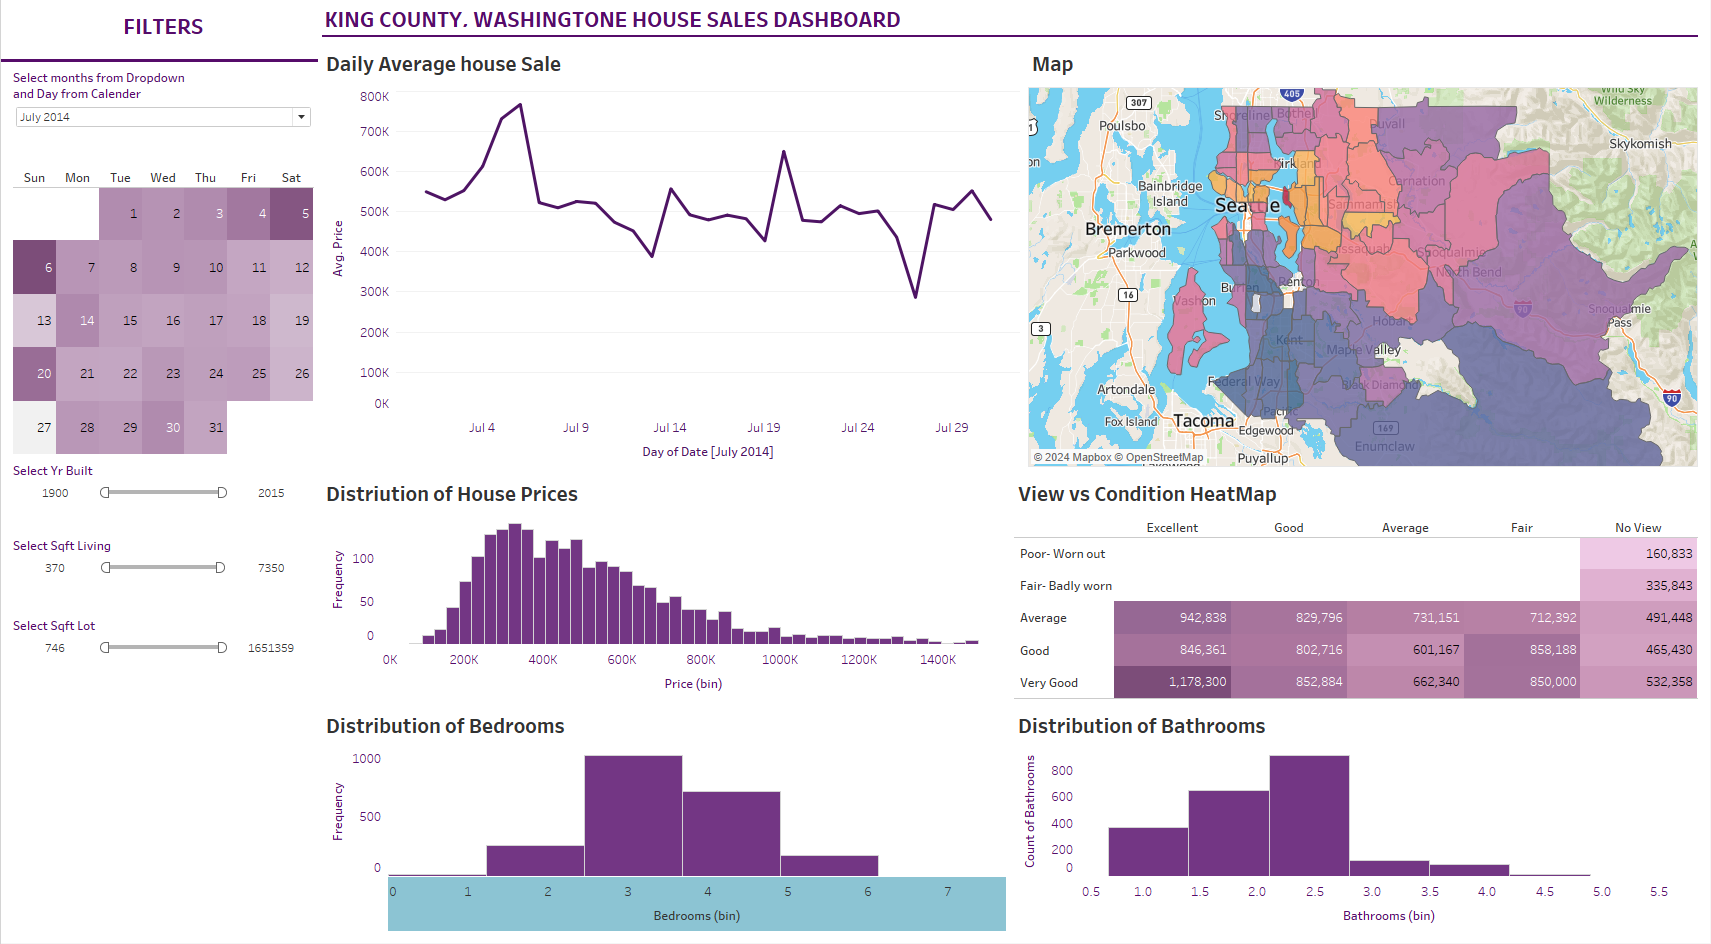

What the dashboard file says about the page in this screenshot:
{"tool":"tableau","page":{"name":"KingCountyHouseSale","canvas":[1000,1000],"units":"permille","ordinal":0},"visuals":[{"type":"text","box":[4.7,8.5,181,61.5]},{"type":"text","box":[185.7,8.5,809.6,25.3]},{"type":"blank","box":[185.7,33.7,809.6,10.6]},{"type":"worksheet","title":"Linechart","mark":"Automatic","rows":["price"],"cols":["date"],"box":[185.7,44.3,413.1,455.7]},{"type":"worksheet","title":"Map","mark":"Automatic","box":[598.8,44.3,396.5,455.7]},{"type":"filter","title":"Calendar","param":"[federated.0yw8oqb1c4z54412dog581vt4lgo].[my:date:ok]","box":[4.7,70,181,103.3]},{"type":"worksheet","title":"Calendar","mark":"Square","rows":["date"],"cols":["date"],"box":[4.7,173.2,181,313]},{"type":"filter","title":"Calendar","param":"[federated.0yw8oqb1c4z54412dog581vt4lgo].[none:yr_built:qk]","box":[4.7,486.3,181,79.1]},{"type":"worksheet","title":"Distribution of House Prices","mark":"Automatic","rows":["price"],"cols":["Price (bin)"],"box":[185.7,500,404.8,245.8]},{"type":"worksheet","title":"Heatmap","mark":"Square","rows":["condition"],"cols":["view"],"box":[590.5,500,404.8,245.8]},{"type":"filter","title":"Calendar","param":"[federated.0yw8oqb1c4z54412dog581vt4lgo].[none:sqft_living:qk]","box":[4.7,565.4,181,84.6]},{"type":"filter","title":"Calendar","param":"[federated.0yw8oqb1c4z54412dog581vt4lgo].[none:sqft_lot:qk]","box":[4.7,649.9,181,341.6]},{"type":"worksheet","title":"Distribution of Bedrooms","mark":"Automatic","rows":["bedrooms"],"cols":["Bedrooms (bin)"],"box":[185.7,745.8,404.8,245.8]},{"type":"worksheet","title":"Distribution of Bathrooms","mark":"Automatic","rows":["bathrooms"],"cols":["Bathrooms (bin)"],"box":[590.5,745.8,404.8,245.8]}]}

Visuals, with their boxes on the dashboard's canvas, which has no fixed pixel size, in thousandths of its width and height (x1, y1, x2, y2). These are canvas units, not pixel positions in the 1711x944 screenshot, which may show the page scaled, cropped or inside an application window:
text: box(5, 8, 186, 70)
text: box(186, 8, 995, 34)
blank: box(186, 34, 995, 44)
"Linechart" worksheet: box(186, 44, 599, 500)
"Map" worksheet: box(599, 44, 995, 500)
"Calendar" filter: box(5, 70, 186, 173)
"Calendar" worksheet (Square marks): box(5, 173, 186, 486)
"Calendar" filter: box(5, 486, 186, 565)
"Distribution of House Prices" worksheet: box(186, 500, 590, 746)
"Heatmap" worksheet (Square marks): box(590, 500, 995, 746)
"Calendar" filter: box(5, 565, 186, 650)
"Calendar" filter: box(5, 650, 186, 992)
"Distribution of Bedrooms" worksheet: box(186, 746, 590, 992)
"Distribution of Bathrooms" worksheet: box(590, 746, 995, 992)
